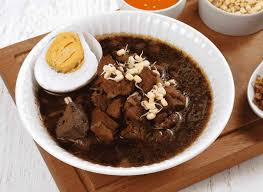Rawon: (34, 24, 210, 166)
